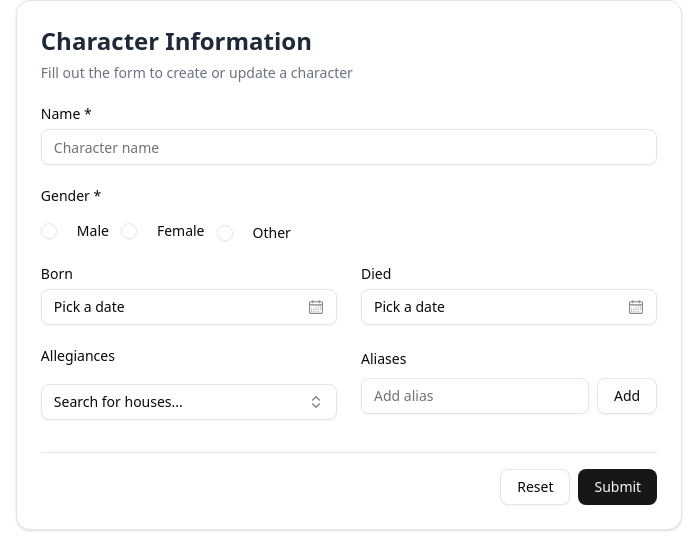
Test case: CharacterForm › adds and removes aliases
The width and height of the screenshot is (699, 557).
Note: Add alias
Type "Needle" into the field with placeholder "Add alias". click: x=475, y=396
box: [361, 378, 589, 414]
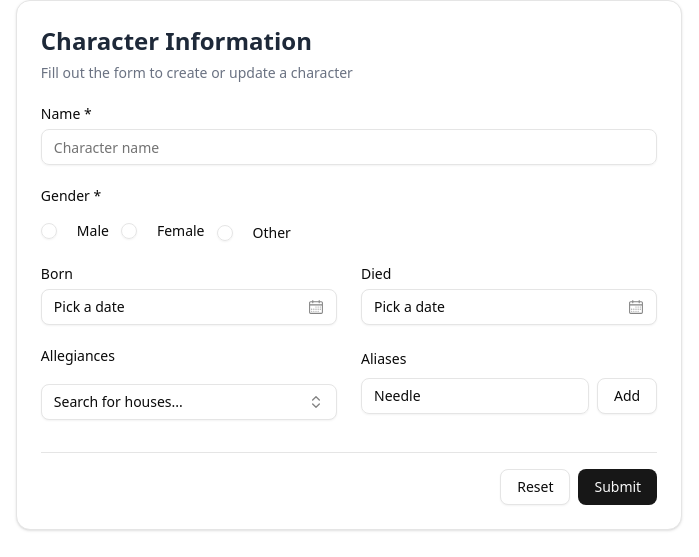
Click the button "Add". click: x=627, y=396
box: [597, 378, 657, 414]
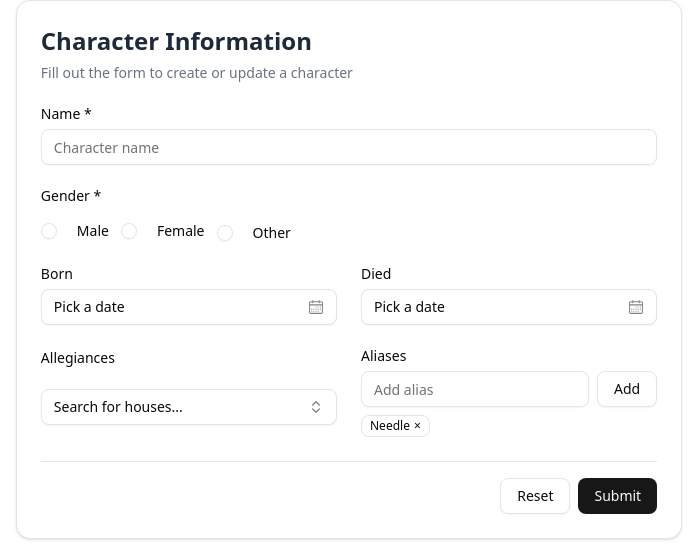
Now the text "Needle" is shown, box [370, 417, 410, 434]
Note: Remove alias
Click the text "×". click: x=417, y=426
box: [414, 418, 421, 434]
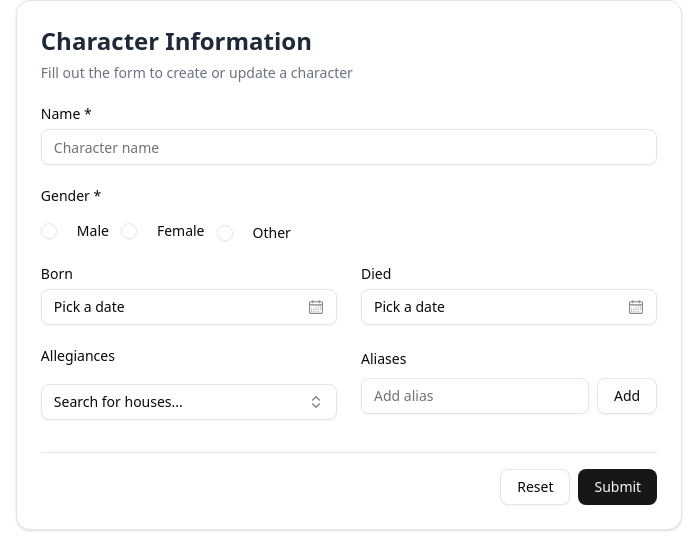
Now the text "Needle" is gone
